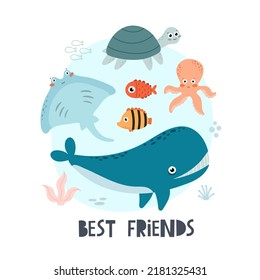fish: (51, 126, 212, 211), (115, 106, 154, 133), (123, 78, 158, 102)
